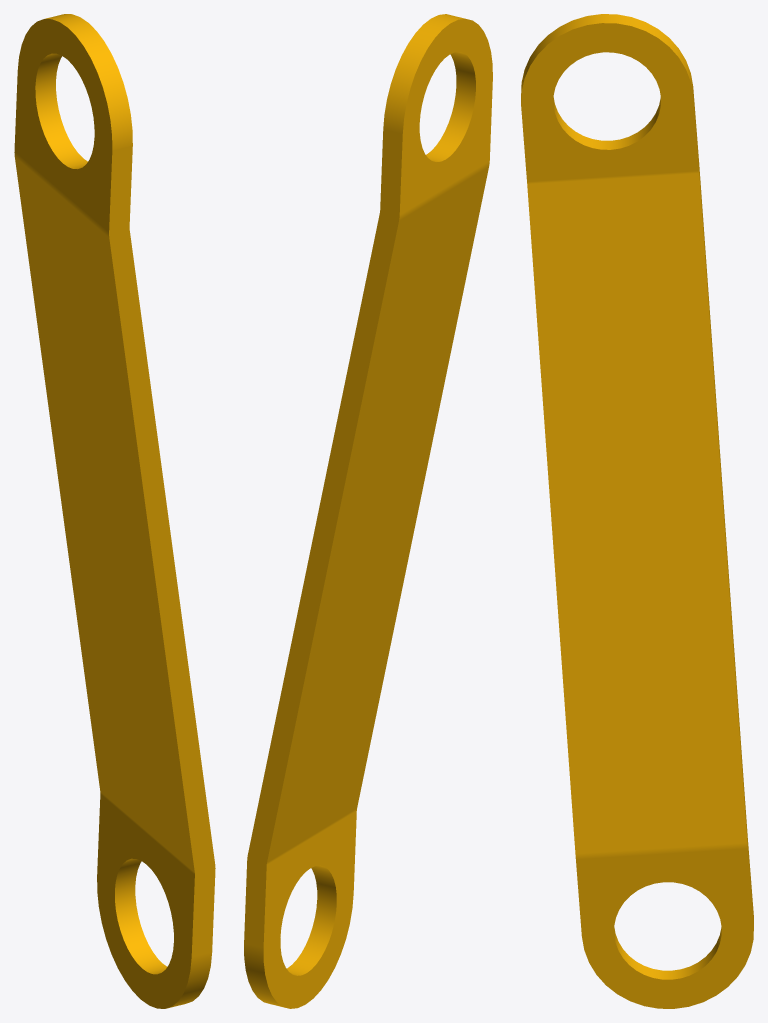
3 renders of one model, left to right at view 1: azimuth 30°, elevation 25°; view 2: azimuth 150°, elevation 25°; view 3: azimuth 270°, elevation 25°, orthographic. The views are drawn at different scales.
Visible parts, largest first — view 1: Part 15; view 2: Part 15; view 3: Part 15.
Part boxes in pixels (x1,y1,x2,y2): Part 15: (14, 14, 215, 1008); Part 15: (244, 14, 492, 1008); Part 15: (521, 14, 753, 1008).
Size of what is drawn, in the model's own units: 0.0206 by 0.152 by 0.0343.
